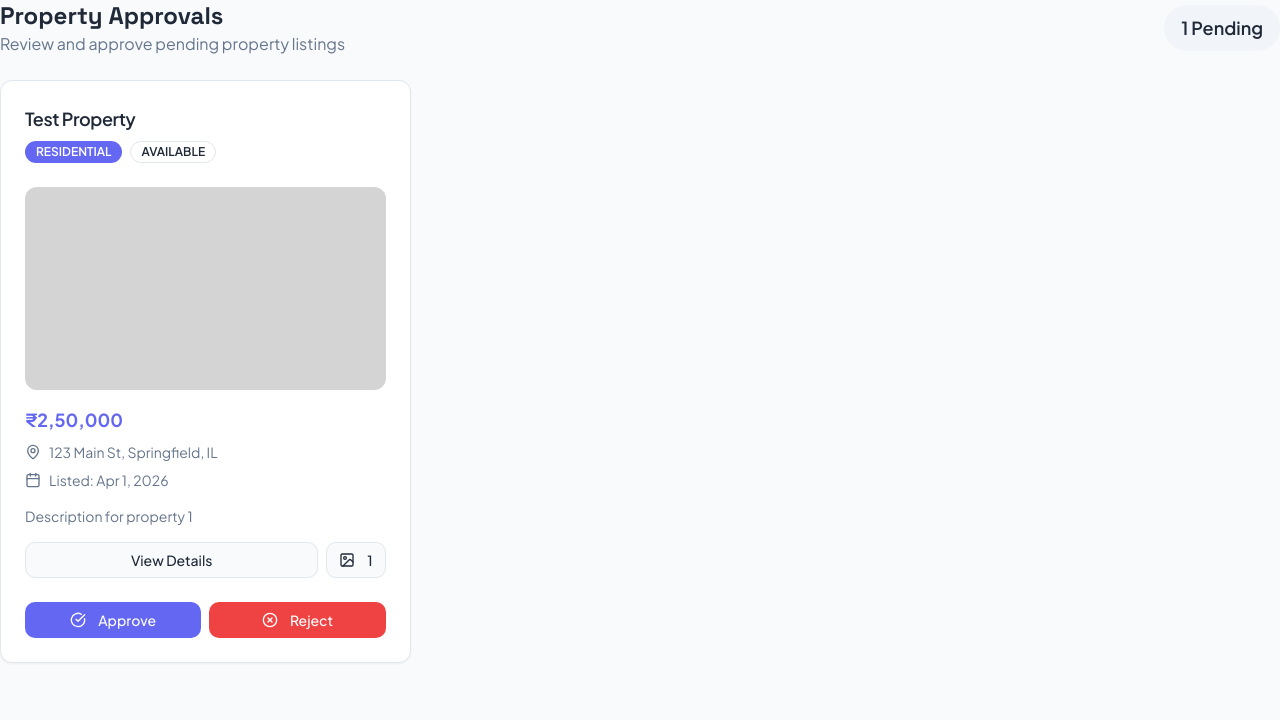
Test: PropertyApprovalList › should open confirmation dialog when approve button is clicked
Expected: the text "Test Property" is shown, [25,107,135,130]
Step 1. Click the button "Approve" → (113, 620), box [25,602,201,638]
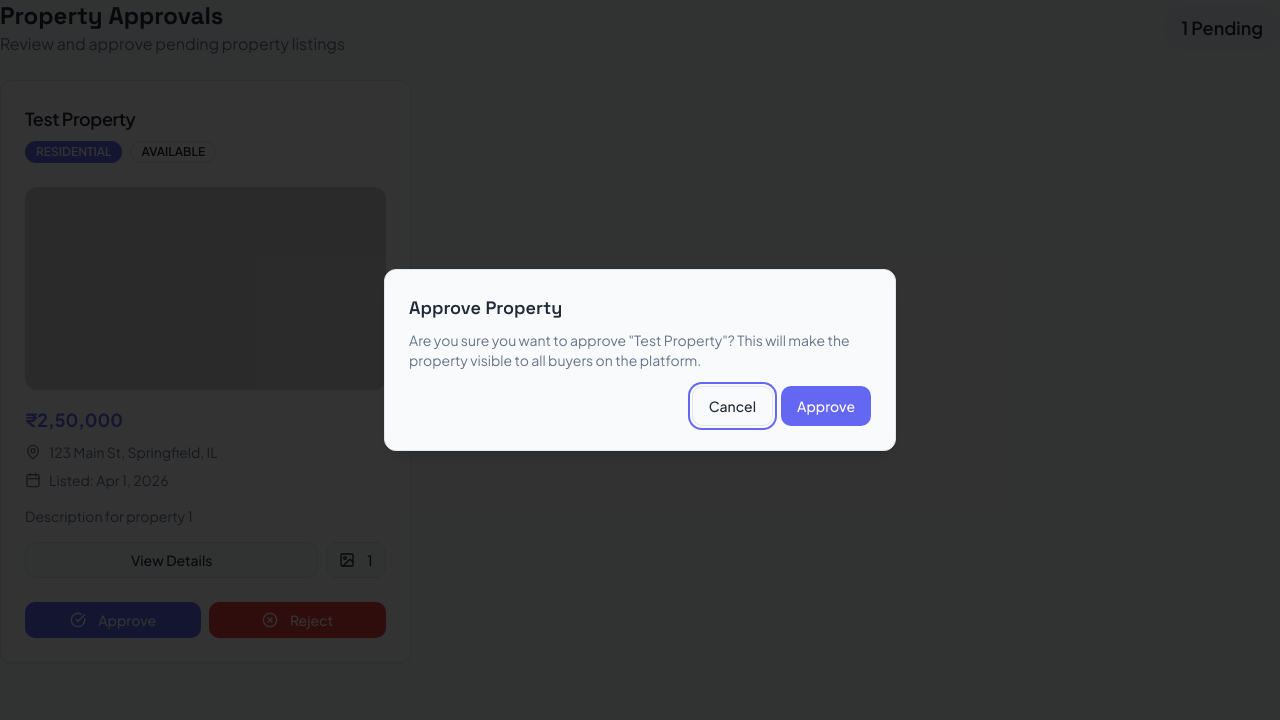
Now the text "Are you sure you want to approve" is shown, box [409,331,634,349]
